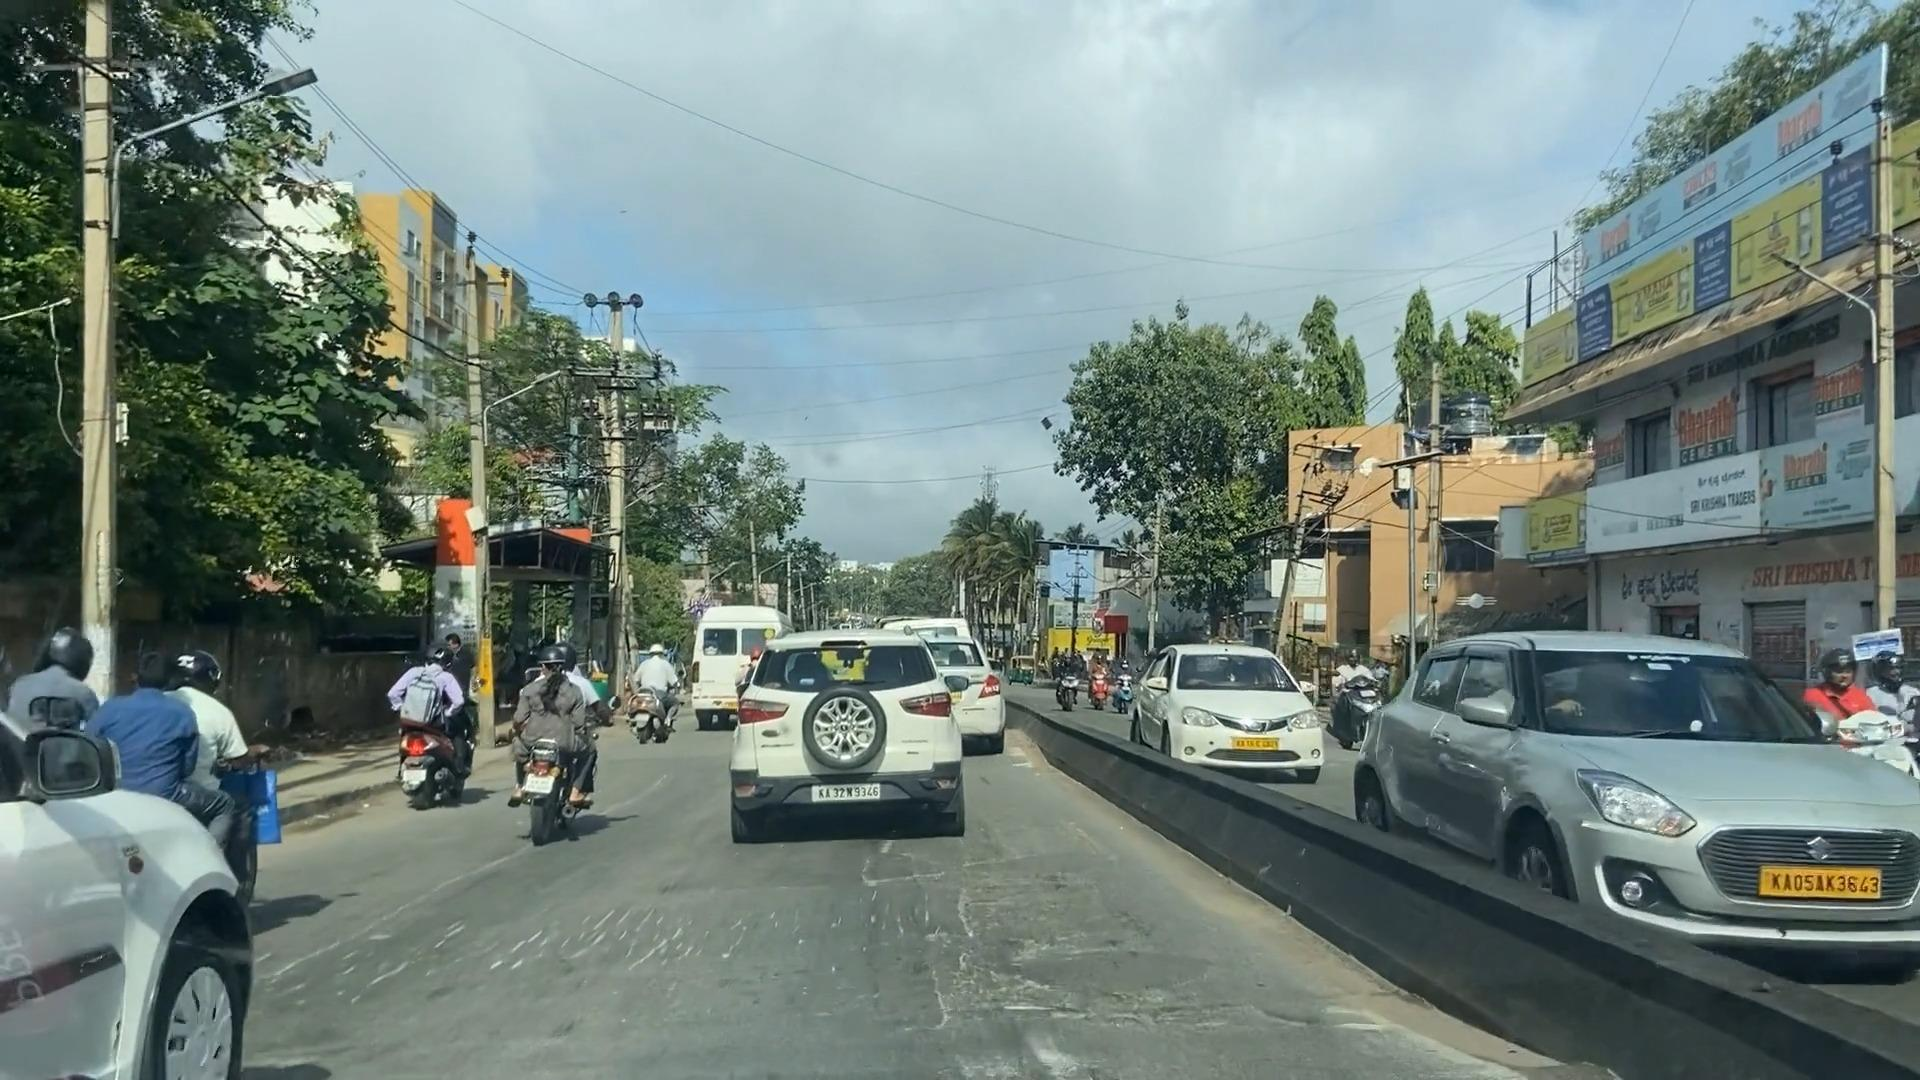LMV: (723, 632, 968, 839), (516, 645, 595, 831), (384, 646, 465, 798)
RoadDamages: (860, 835, 1333, 1051)
UnsurfacedRoad: (320, 881, 773, 1006)
